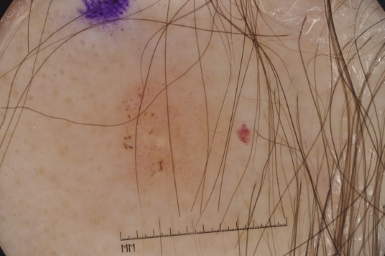seborrheic keratosis: (110, 72, 267, 210)
